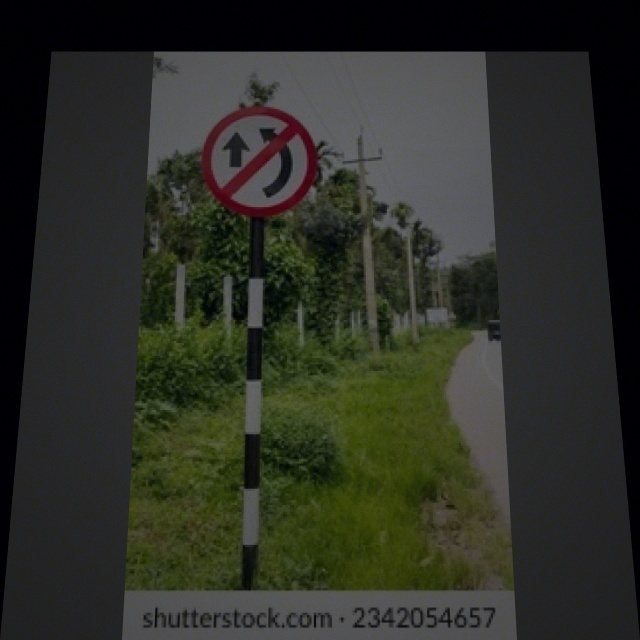Overtaking_Prohibited: (204, 105, 317, 216)
